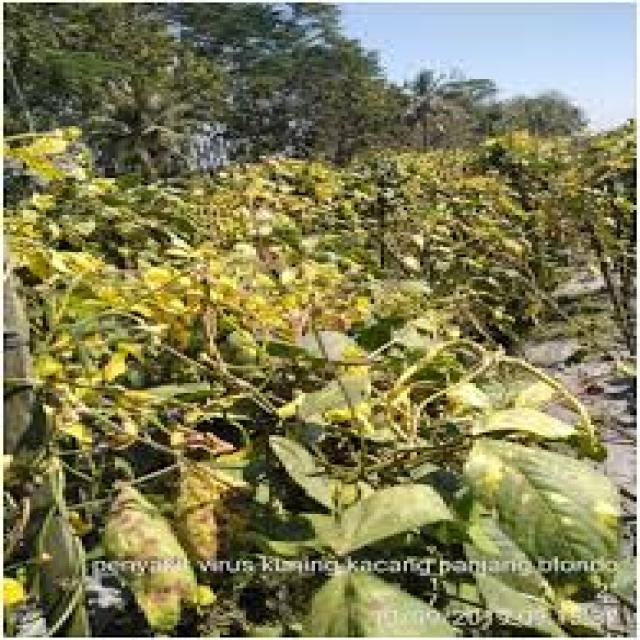virus_kuning: (0, 233, 306, 382)
